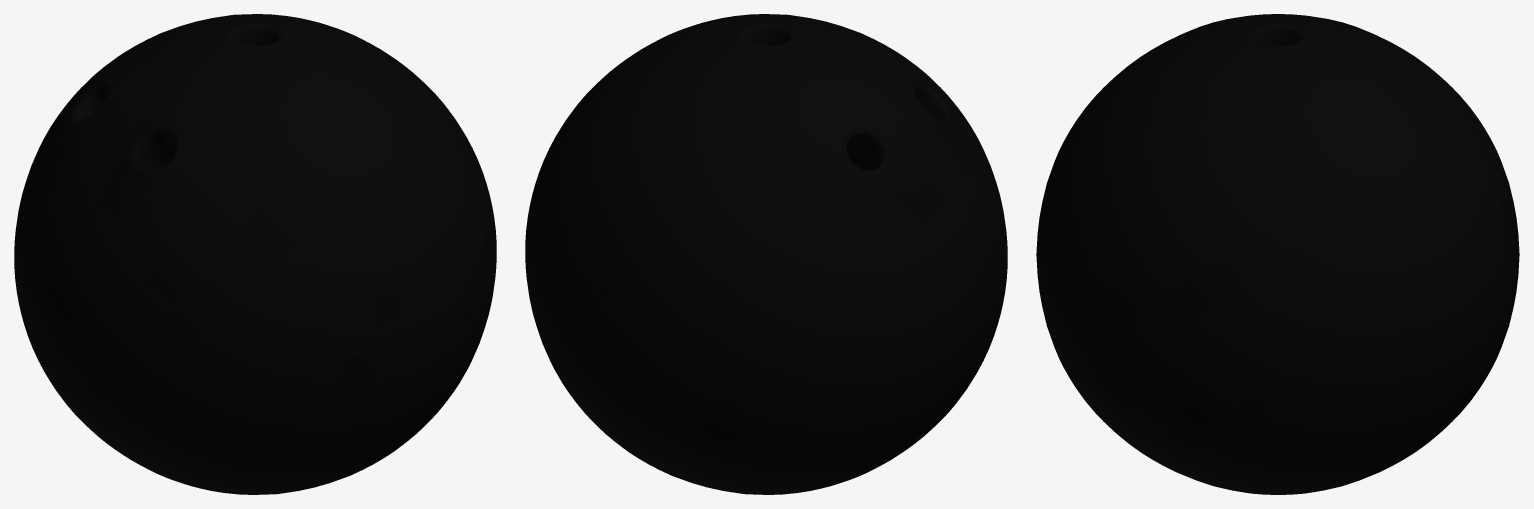
The model's file is bowling_ball.fbx.
The picture shows the model from 3 angles, left to right: view 1: azimuth 30°, elevation 25°; view 2: azimuth 150°, elevation 25°; view 3: azimuth 270°, elevation 25°; orthographic projection.
Parts seen in each view (by area): view 1: bowling_ball; view 2: bowling_ball; view 3: bowling_ball.
Part boxes in pixels (x1=…): bowling_ball: x1=14, y1=14, x2=496, y2=494; bowling_ball: x1=525, y1=14, x2=1007, y2=494; bowling_ball: x1=1036, y1=14, x2=1519, y2=494.
Bounding box in the file's own units: 0.708 × 0.7082 × 0.708.
Materials: 1 (1 with a texture image).
